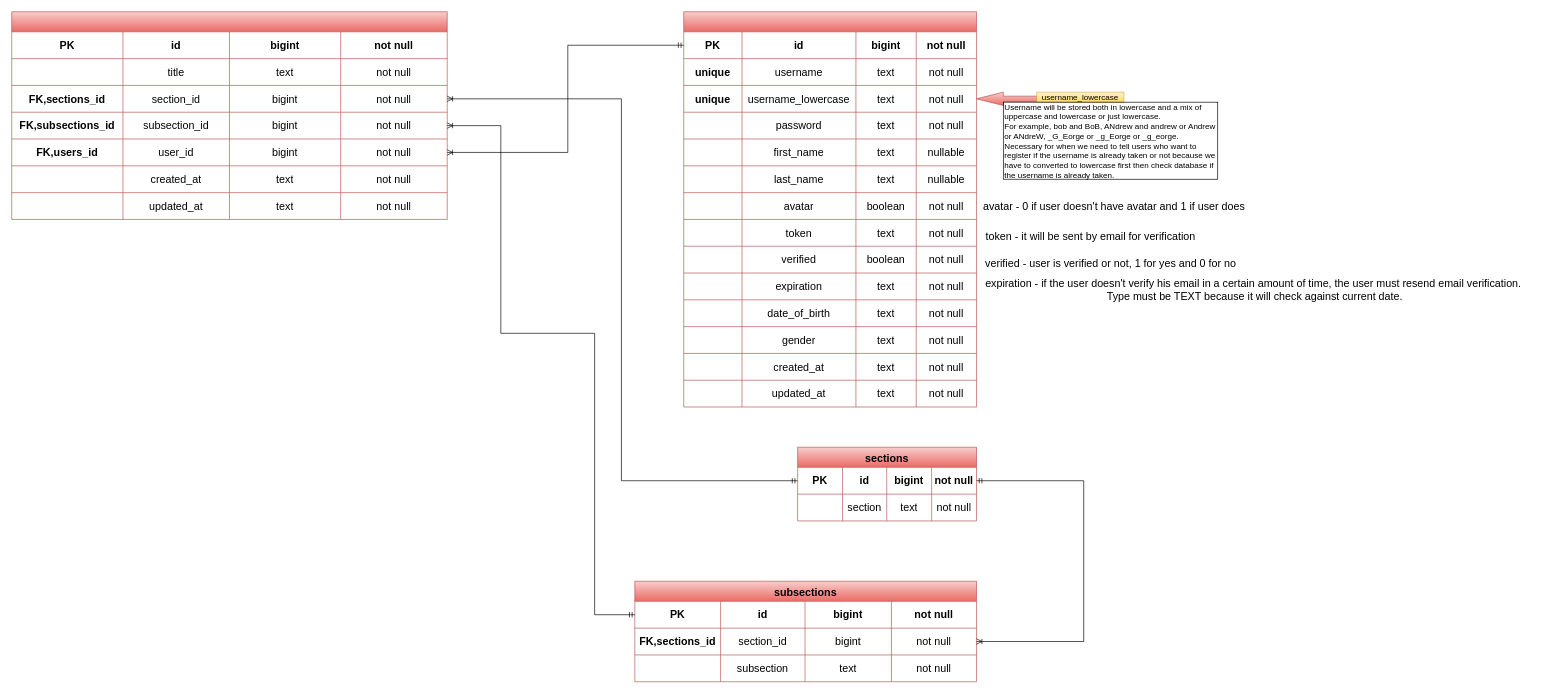
This 1544x693 diagram has some shape labels left out. Here are the shapes that lost their labels. From the top down, the box of each, then its label:
(11, 11, 447, 219): topics
(683, 11, 977, 407): users
